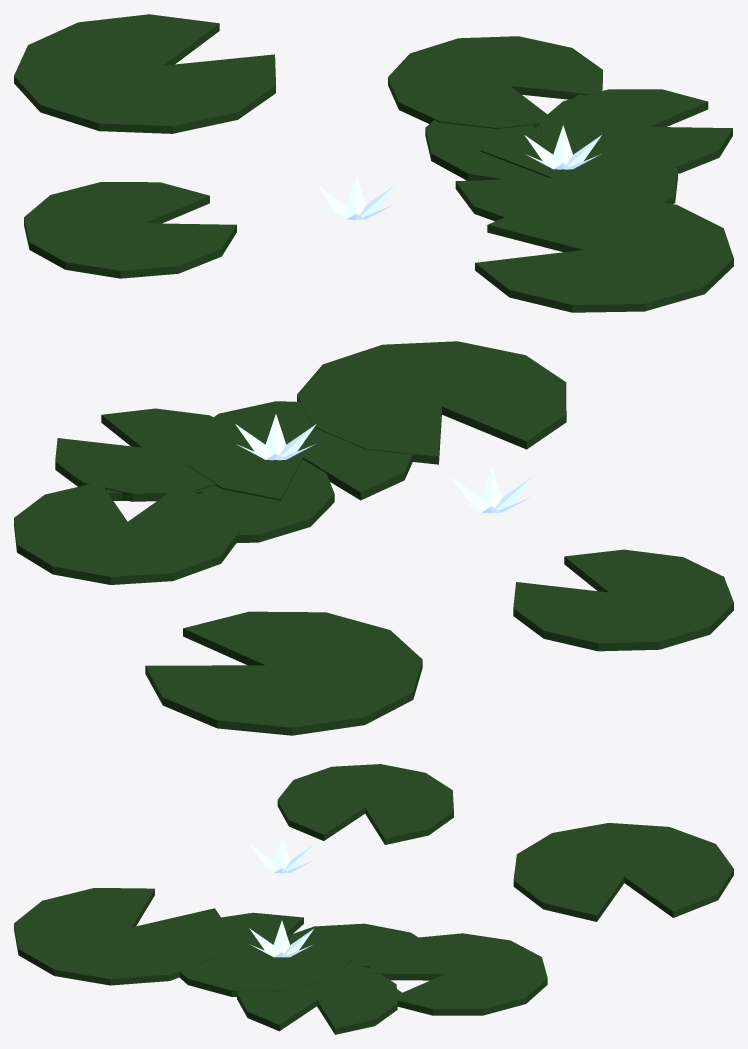
Rendered from nenufares.fbx.
3 views of the same model, one above another, from view 1: azimuth 30°, elevation 25°; view 2: azimuth 150°, elevation 25°; view 3: azimuth 270°, elevation 25° (orthographic). The views are drawn at different scales.
Visible parts, largest first — view 1: nenufares; view 2: nenufares; view 3: nenufares.
Boxes of the visible parts, bbox=[...] form: nenufares: bbox=[14, 14, 733, 312]; nenufares: bbox=[14, 341, 733, 735]; nenufares: bbox=[14, 764, 733, 1034].
Size of the model in its own units: 2.65 by 0.1298 by 3.04.
